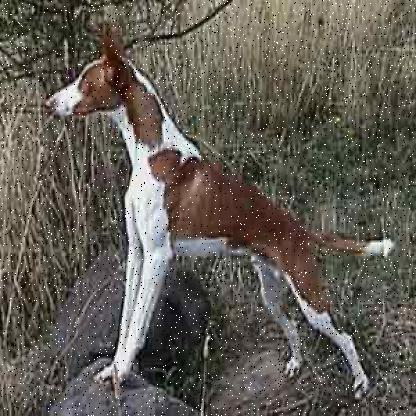dog: (44, 12, 398, 414)
